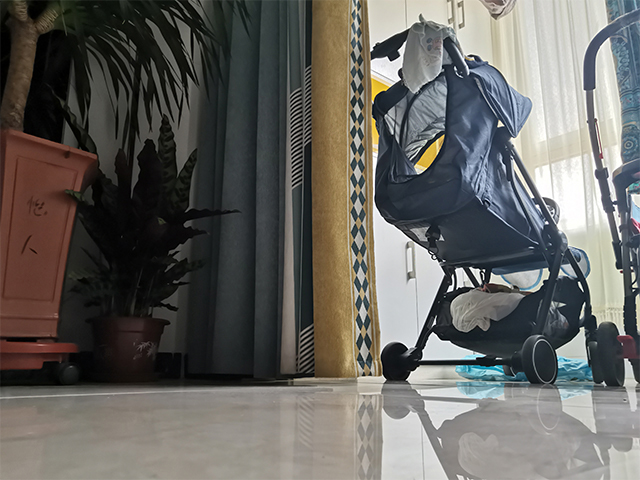curtain: (179, 1, 385, 385)
